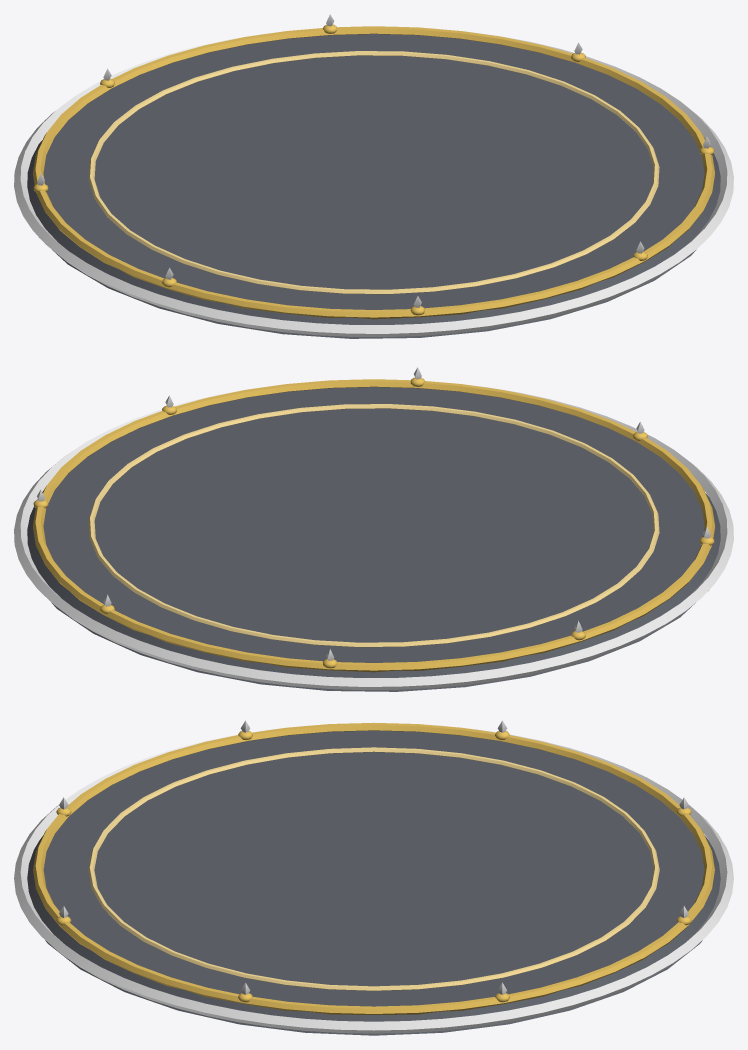
Rendered from base_large_s5.fbx.
3 renders of one model, top to bottom at view 1: azimuth 30°, elevation 25°; view 2: azimuth 150°, elevation 25°; view 3: azimuth 270°, elevation 25°, orthographic.
Parts seen in each view (by area): view 1: base_large_s5; view 2: base_large_s5; view 3: base_large_s5.
Part boxes in pixels (left/top/right/bottom): base_large_s5: left=14, top=14, right=733, bottom=338; base_large_s5: left=14, top=367, right=733, bottom=691; base_large_s5: left=14, top=720, right=733, bottom=1035.
Size of the model in its own units: 3.26 by 0.175 by 3.26.
2 materials, 1 textured.
